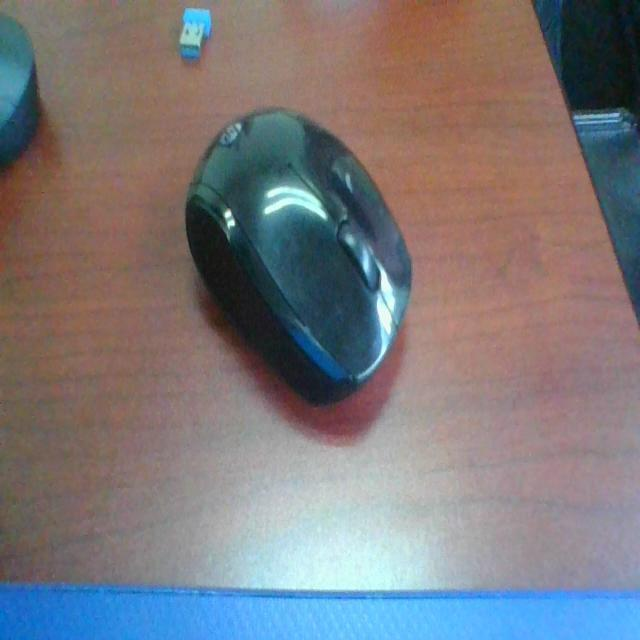Mouse: (186, 98, 435, 408)
